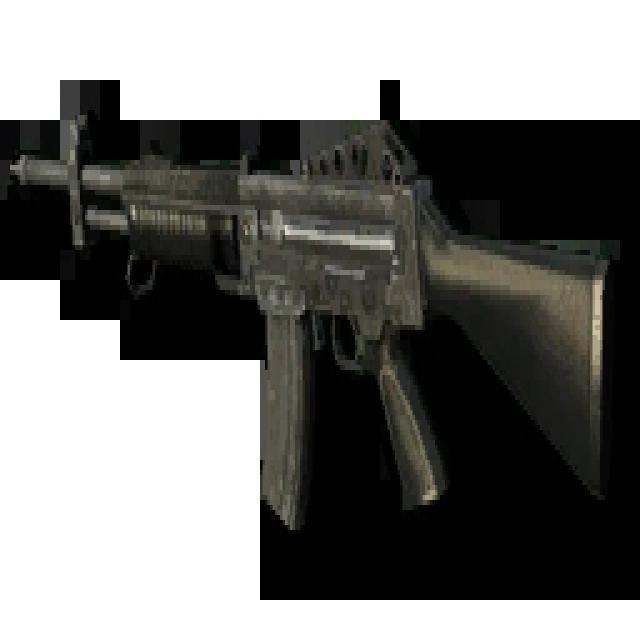weapon: (10, 106, 618, 535)
